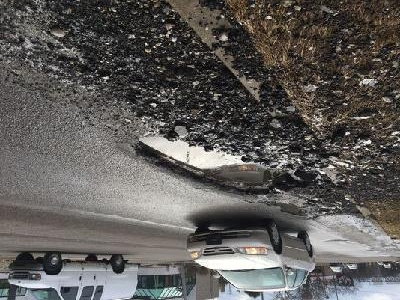pothole: (132, 131, 288, 198), (265, 198, 311, 219)
